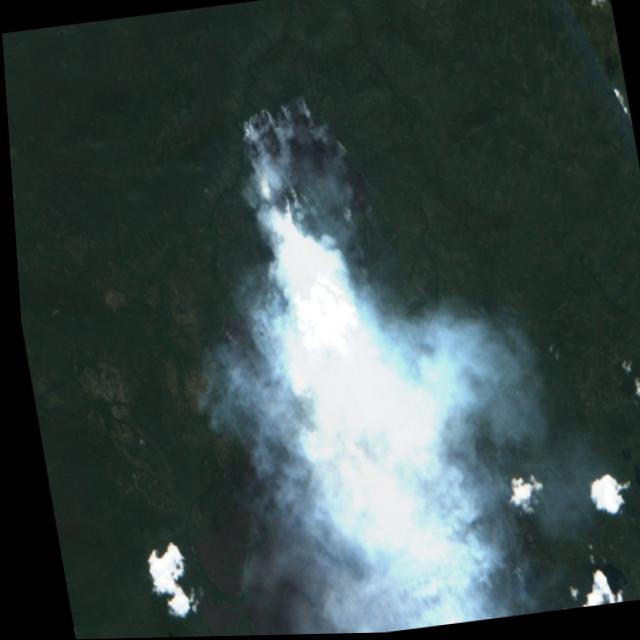fire: (225, 85, 380, 256), (208, 302, 286, 355)
